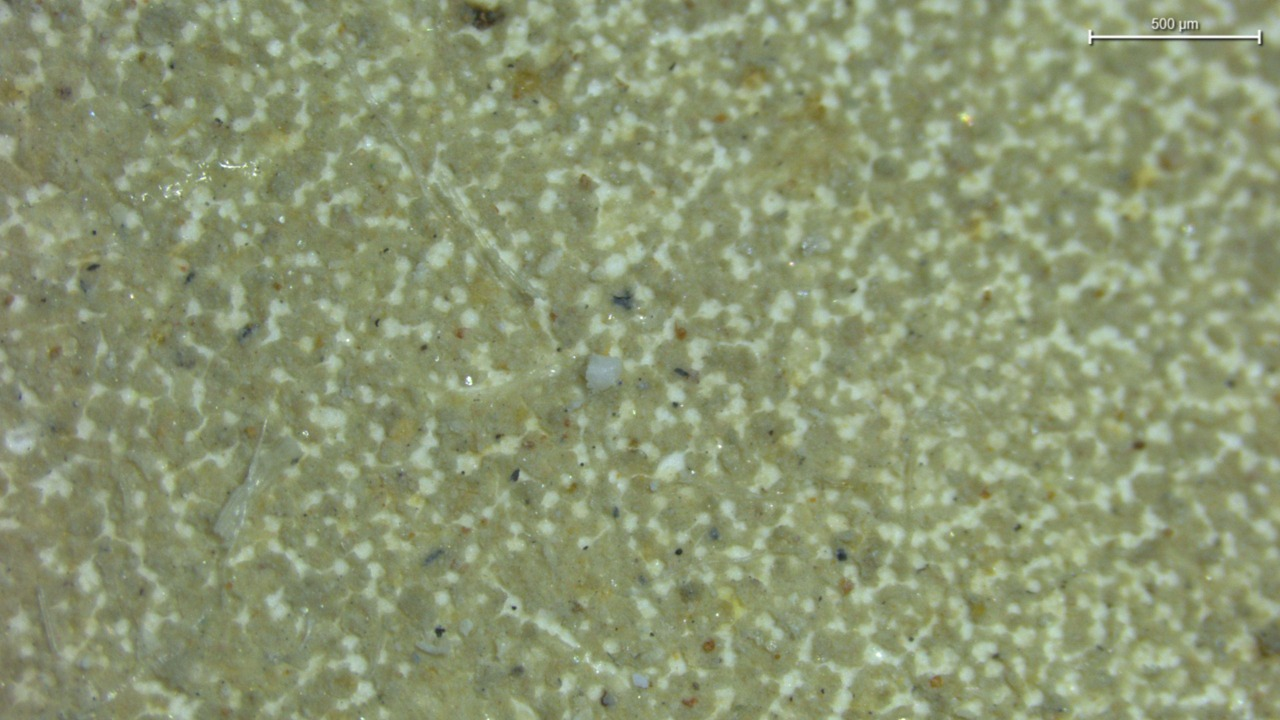microplastic_fragment: (214, 425, 303, 549), (585, 355, 622, 390)
